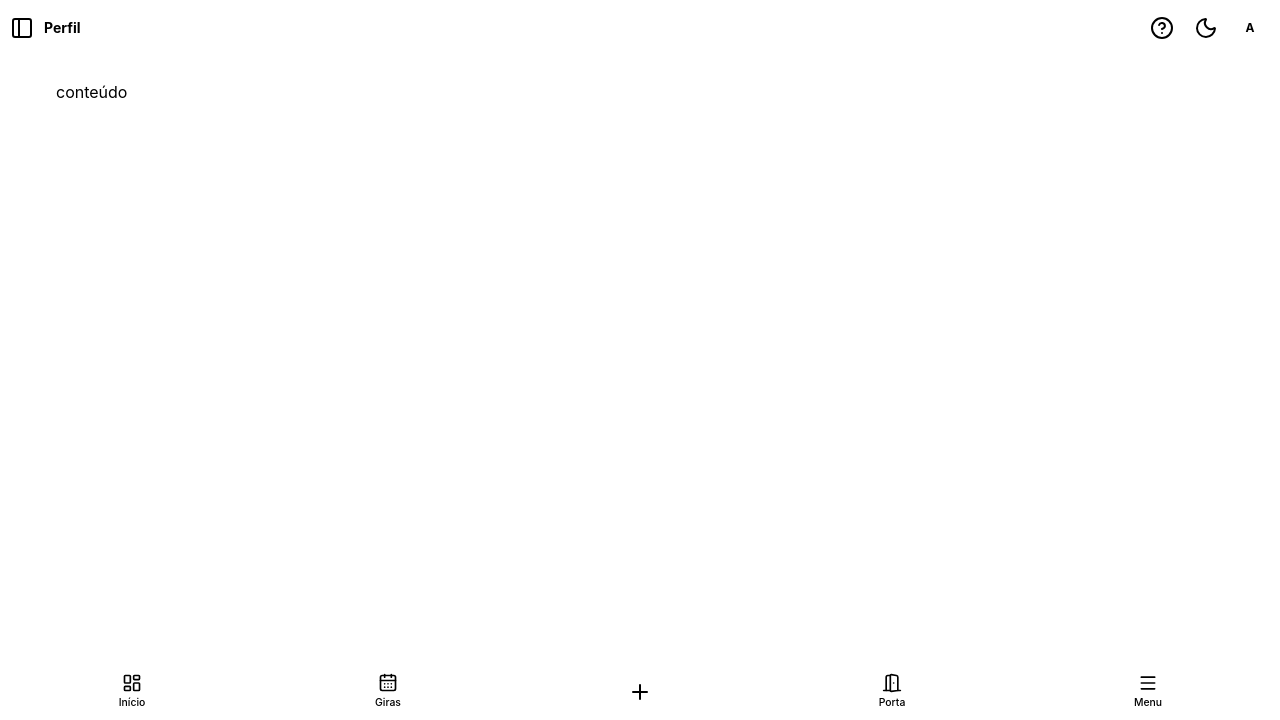
Test: Menu do painel — Trocar de terreiro › não aparece quando o e-mail só tem esta conta
The width and height of the screenshot is (1280, 720).
Click the button with test id "topbar-user-menu" at (1250, 28), box 1232,10 -> 1268,46
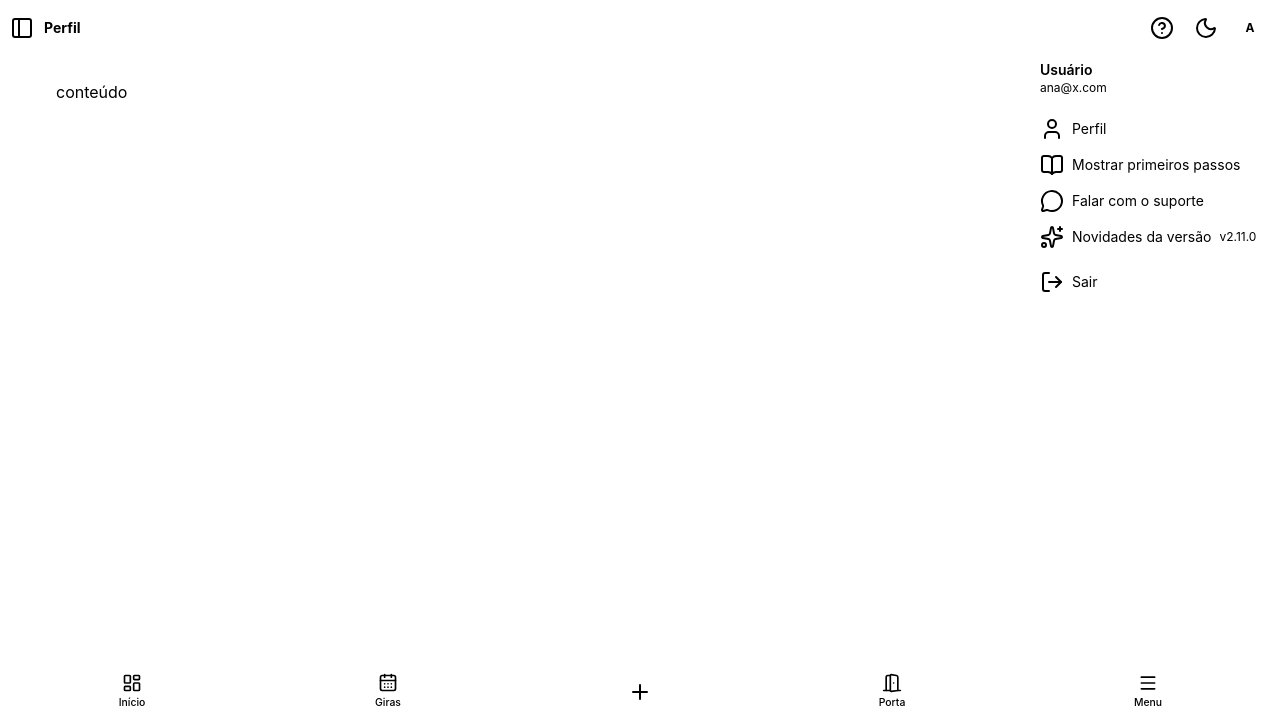
Expected: the menu item "Sair" is shown, 1040,270 -> 1098,294
